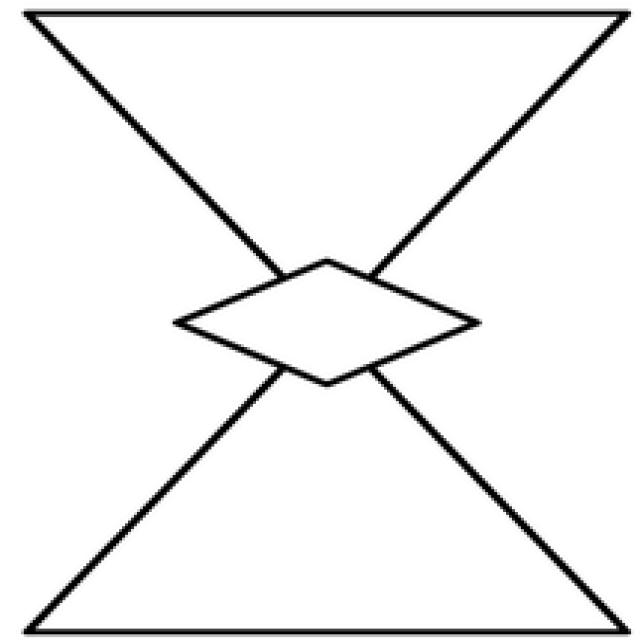Plug Valve: (26, 12, 627, 634)
